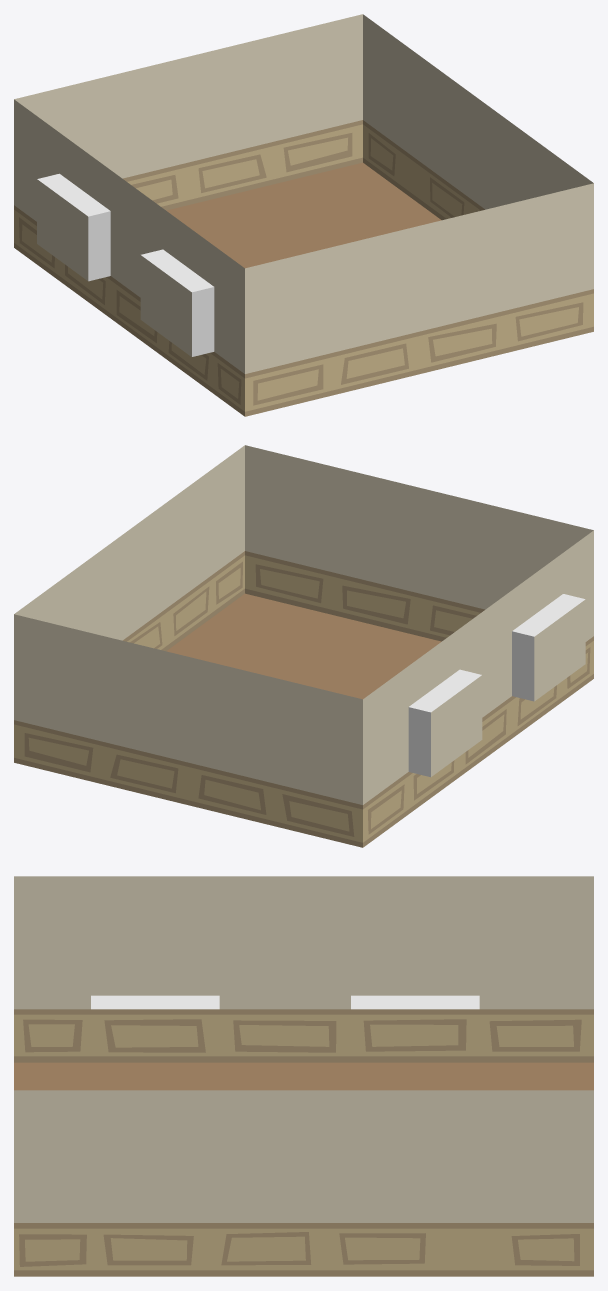
The model's file is Classroom.fbx.
The picture shows the model from 3 angles, top to bottom: view 1: azimuth 30°, elevation 25°; view 2: azimuth 150°, elevation 25°; view 3: azimuth 270°, elevation 25°; orthographic projection. The views are drawn at different scales.
Visible parts, largest first — view 1: Cube; view 2: Cube; view 3: Cube.
Part boxes in pixels (x1=…): Cube: x1=14, y1=14, x2=593, y2=416; Cube: x1=14, y1=445, x2=593, y2=847; Cube: x1=14, y1=876, x2=593, y2=1276.
Bounding box in the file's own units: 8.14 × 3.11 × 8.77.
